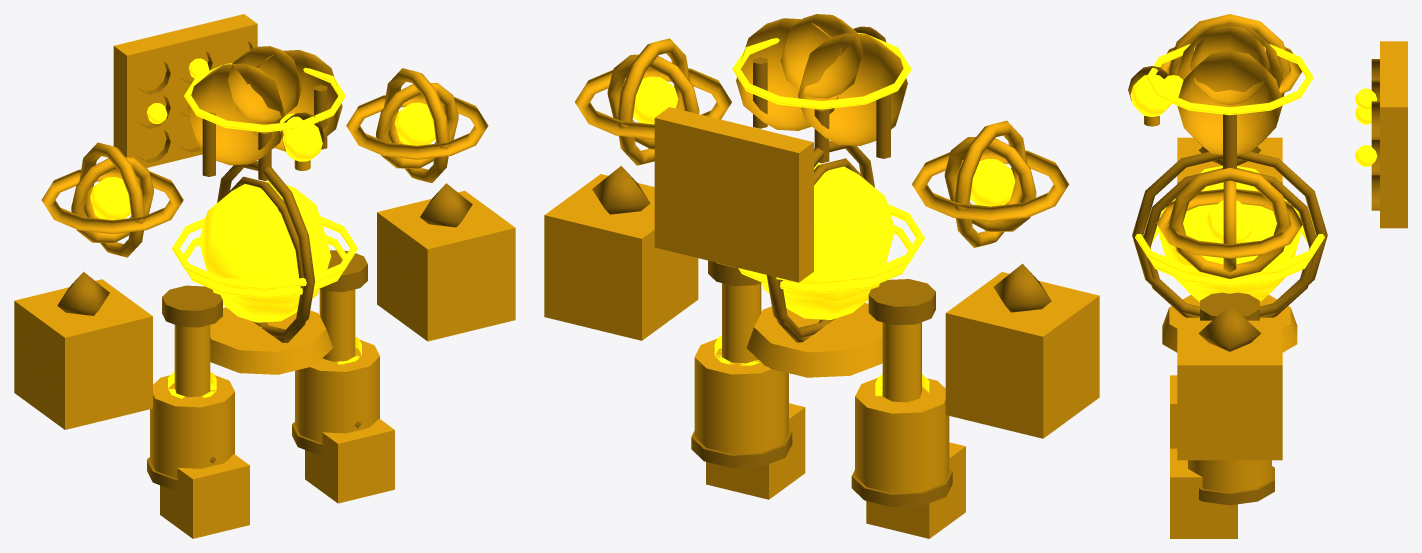
Rendered from golem_096.glb.
3 views of the same model, side by side, from view 1: azimuth 30°, elevation 25°; view 2: azimuth 150°, elevation 25°; view 3: azimuth 270°, elevation 25° (orthographic). The views are drawn at different scales.
Visible parts, largest first — view 1: Body, Glow, Detail; view 2: Body, Glow, Detail; view 3: Body, Detail, Glow.
Boxes of the visible parts, x1,y1,x2,y2 form: Body: (14,14,515,538); Glow: (90,58,435,398); Detail: (57,41,472,490); Body: (544,14,1099,538); Glow: (633,33,1015,396); Detail: (592,26,1051,506); Body: (1144,14,1407,538); Detail: (1128,59,1379,505); Glow: (1130,44,1377,301).
Size of the model in its own units: 1.48 by 1.39 by 0.7692.
